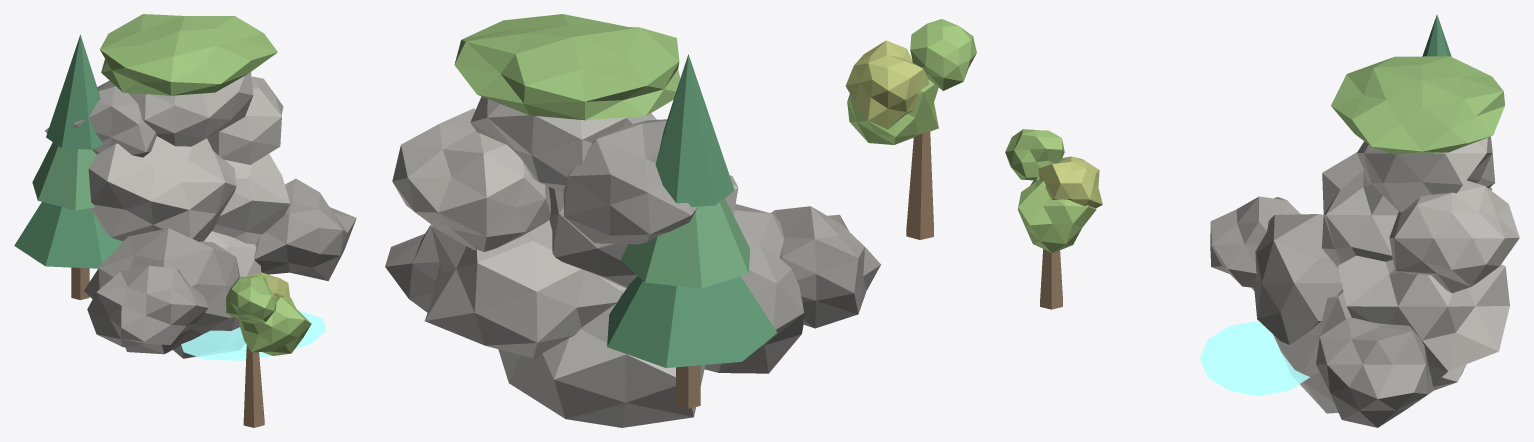
Rendered from props_left.glb.
The picture shows the model from 3 angles, left to right: view 1: azimuth 30°, elevation 25°; view 2: azimuth 150°, elevation 25°; view 3: azimuth 270°, elevation 25°; orthographic projection. The views are drawn at different scales.
Size of the model in its own units: 0.2665 by 0.2547 by 0.3471.
